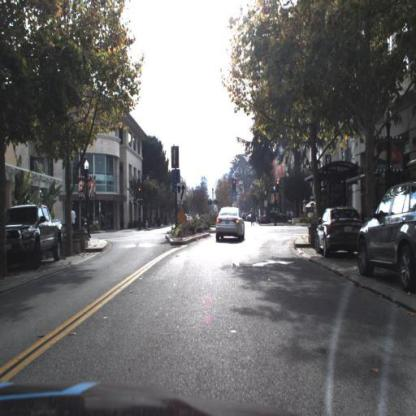car: (358, 181, 416, 291), (1, 204, 66, 277), (315, 205, 364, 259), (213, 205, 246, 248)
pedestrian: (71, 207, 78, 241)
trafficLight-Red: (137, 179, 146, 200), (232, 178, 239, 196), (138, 186, 144, 205), (233, 179, 238, 194), (277, 179, 282, 194)
